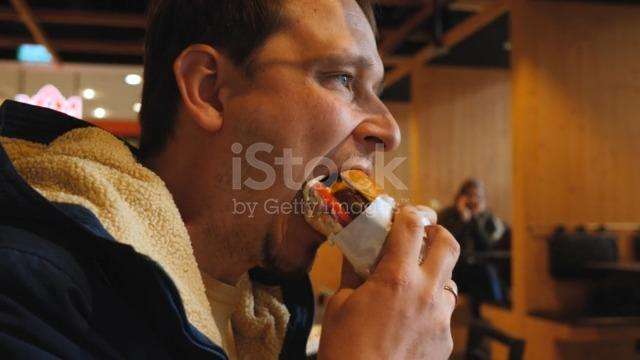Eating: (152, 0, 471, 360)
